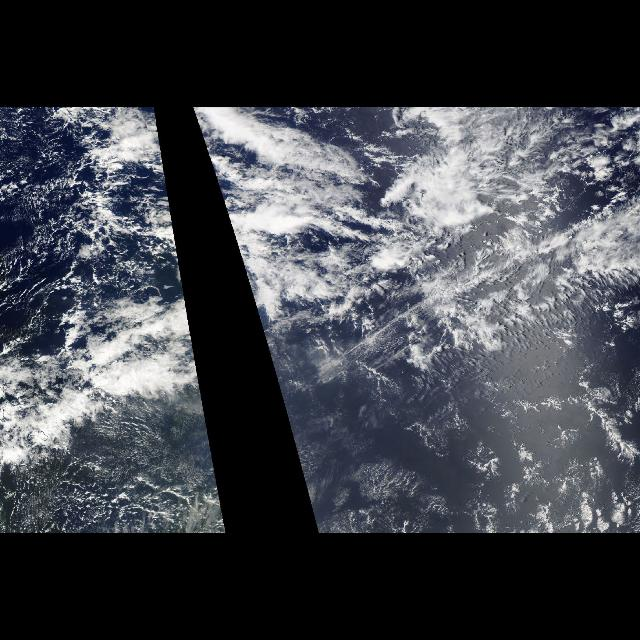Gravel: (0, 110, 196, 350)
Sugar: (289, 392, 489, 534), (8, 464, 220, 534)
